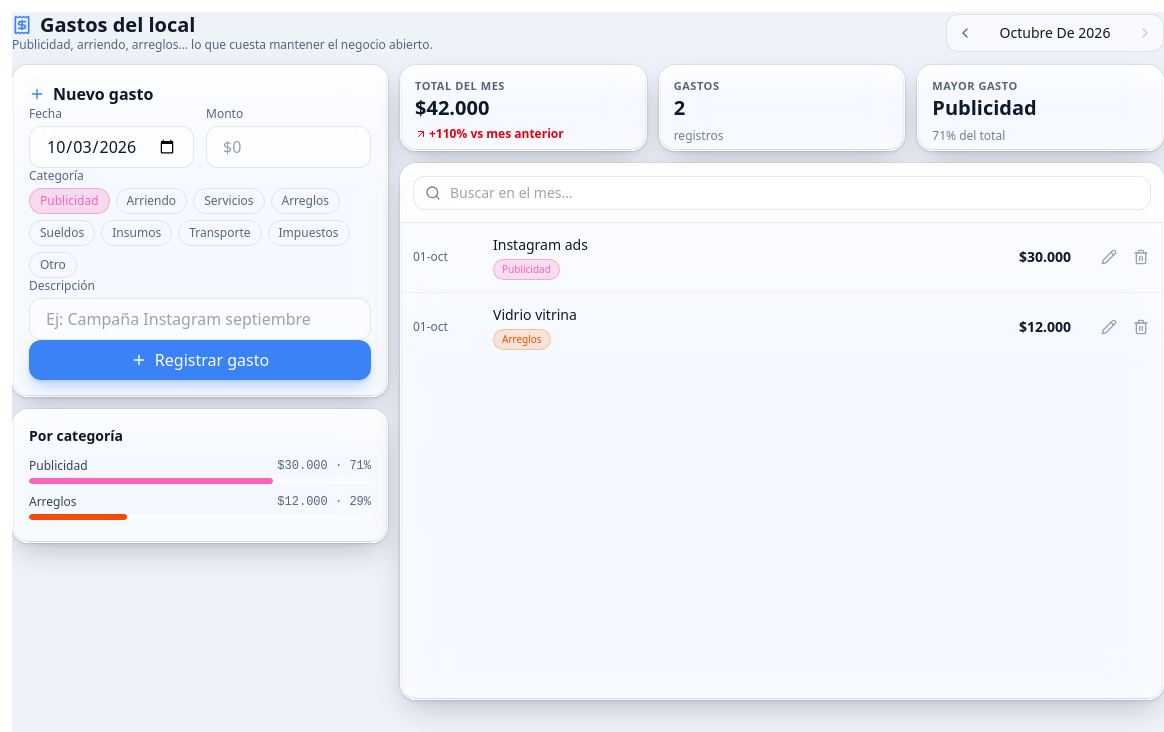
Test: Gastos › navega al mes anterior y no permite ir al futuro
Check: the text "Instagram ads" is shown, box [493, 234, 588, 254]
Check: the button named "Mes siguiente" is disabled, box [1131, 18, 1159, 46]
Click the button named "Mes anterior".
click(965, 32)  # box [951, 18, 979, 46]
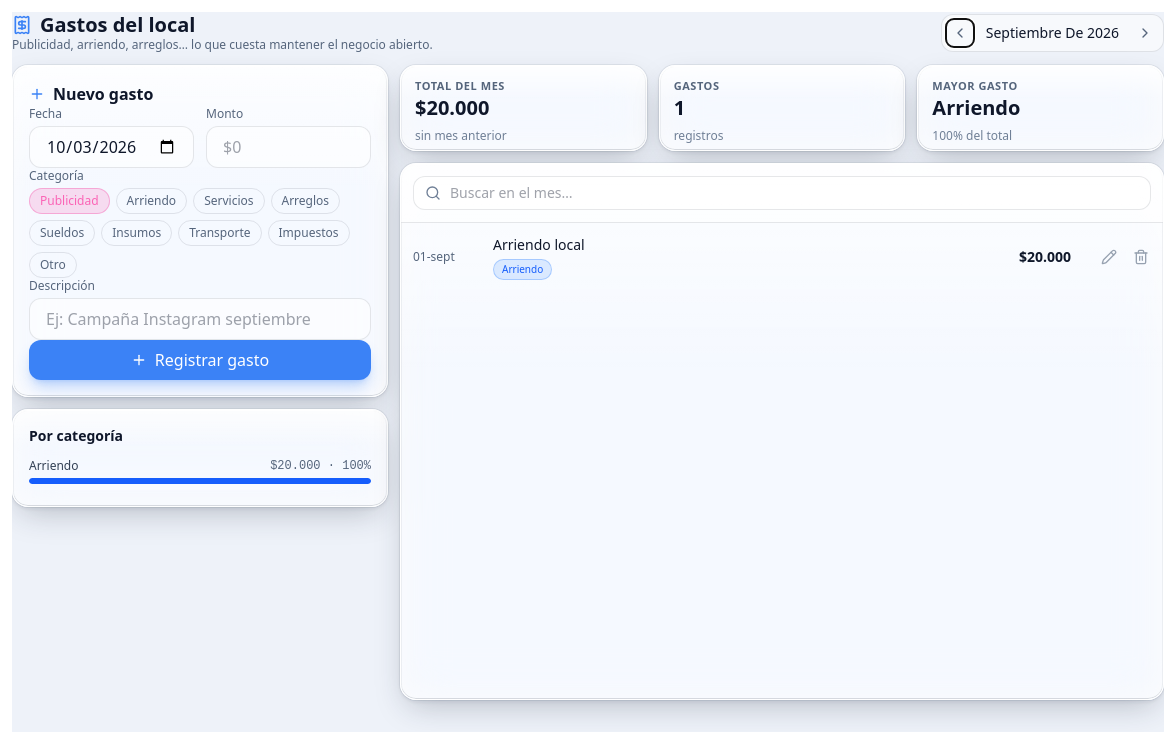
Check: the button named "Mes siguiente" is enabled, box [1131, 18, 1159, 46]
Check: the text "Arriendo local" is shown, box [493, 234, 585, 254]
Check: the text "Instagram ads" is gone
